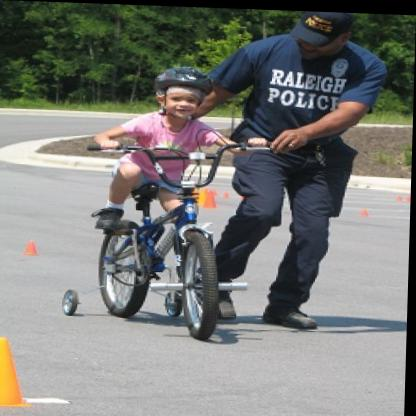With Helmet: (148, 64, 217, 118)
